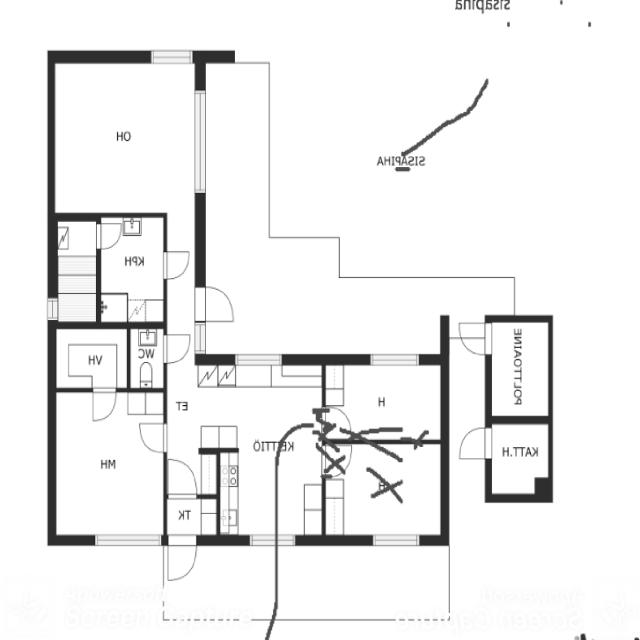door: (192, 282, 238, 326), (455, 316, 494, 361), (454, 422, 494, 464), (165, 536, 198, 584), (156, 243, 192, 283), (165, 456, 198, 499), (134, 419, 171, 455), (88, 384, 119, 424), (92, 217, 123, 254), (162, 330, 193, 366), (328, 406, 352, 433)
window: (190, 82, 211, 200), (89, 530, 168, 546), (144, 45, 198, 68), (365, 348, 424, 369), (230, 348, 290, 366), (368, 531, 424, 548), (246, 534, 302, 548), (45, 290, 60, 326)
zone: (50, 57, 201, 216), (214, 369, 324, 544), (51, 390, 166, 539), (324, 436, 445, 541), (192, 358, 323, 444), (322, 359, 442, 440), (98, 215, 167, 323), (490, 317, 551, 419), (218, 444, 276, 538), (49, 324, 130, 389), (488, 419, 551, 497), (128, 326, 166, 388)
